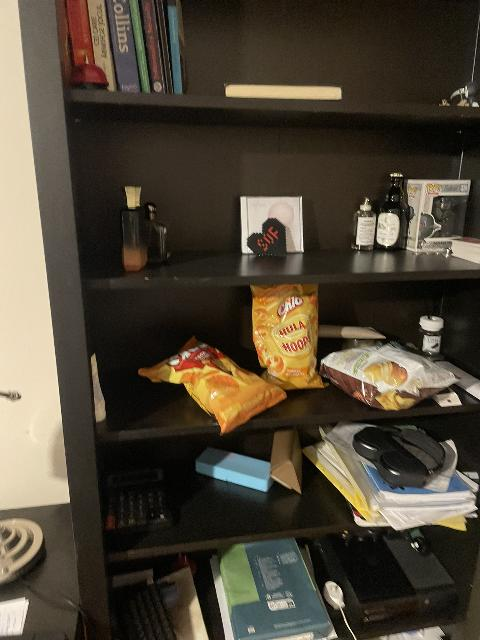Chio Cascaval 125g: (138, 336, 283, 436)
Chio Hula Hoops Cheese 70g: (255, 289, 328, 383)
Lays Beef Grilled Ribs 125g: (322, 342, 461, 410)
